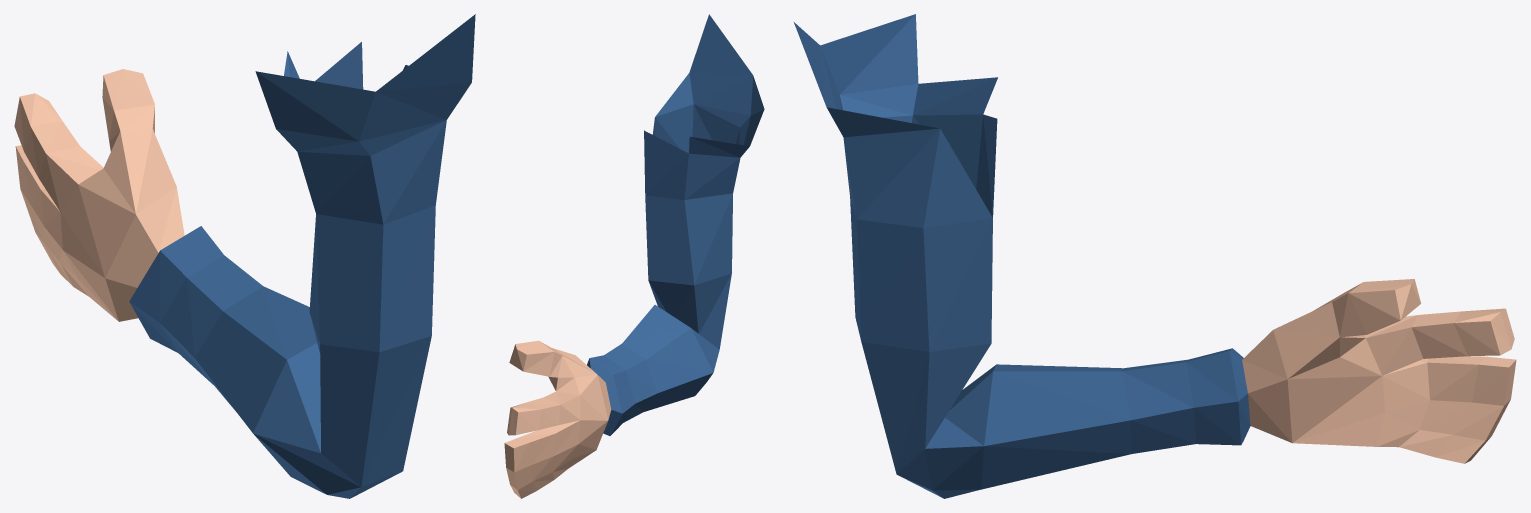
File: Son_01_ArmL_96_02_A.obj
3 views of the same model, side by side, from view 1: azimuth 30°, elevation 25°; view 2: azimuth 150°, elevation 25°; view 3: azimuth 270°, elevation 25° (orthographic). The views are drawn at different scales.
Visible parts, largest first — view 1: Son_01_ArmL_96_02_A; view 2: Son_01_ArmL_96_02_A; view 3: Son_01_ArmL_96_02_A.
Part boxes in pixels (x1=…): Son_01_ArmL_96_02_A: x1=14, y1=14, x2=475, y2=498; Son_01_ArmL_96_02_A: x1=504, y1=14, x2=764, y2=498; Son_01_ArmL_96_02_A: x1=794, y1=14, x2=1516, y2=498.
Bounding box in the file's own units: 0.1573 × 0.469 × 0.6171.
1 material, 1 textured.
